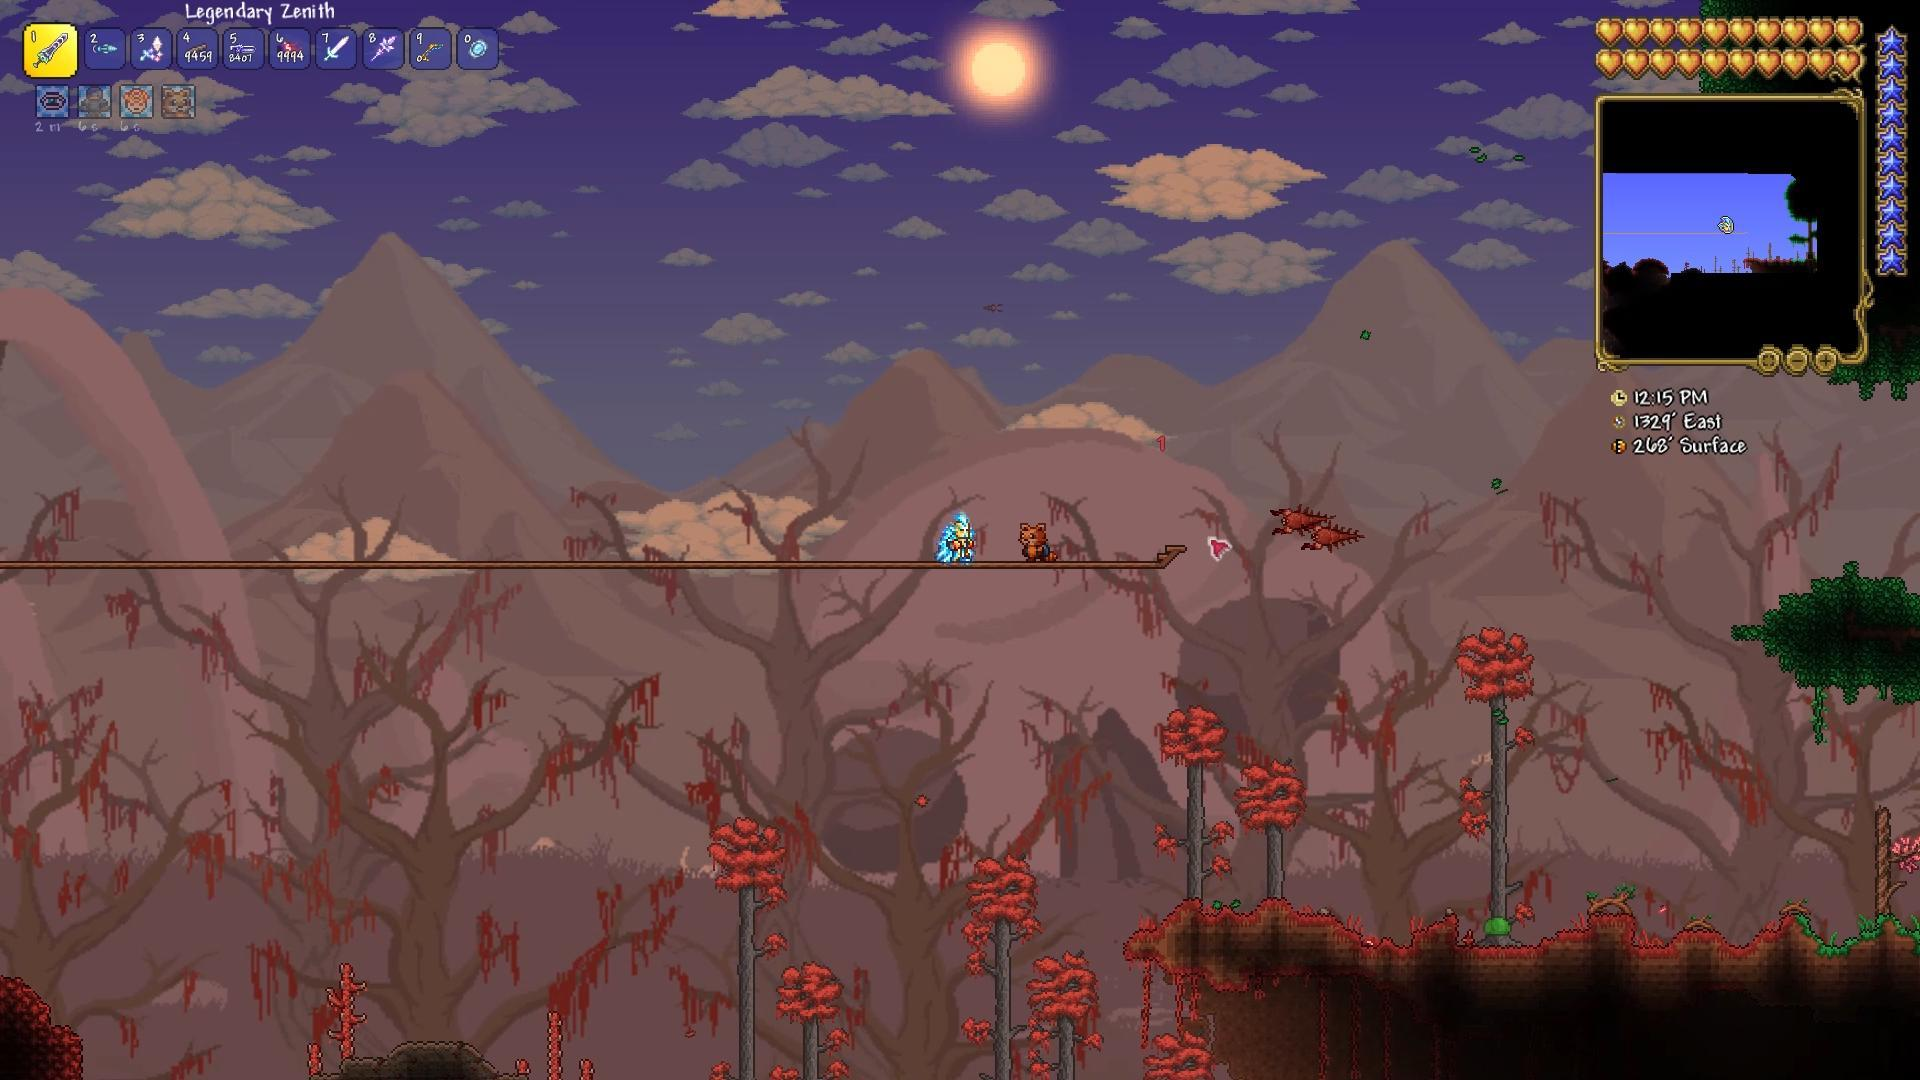crimera: (1296, 522, 1371, 556), (1265, 498, 1335, 533)
